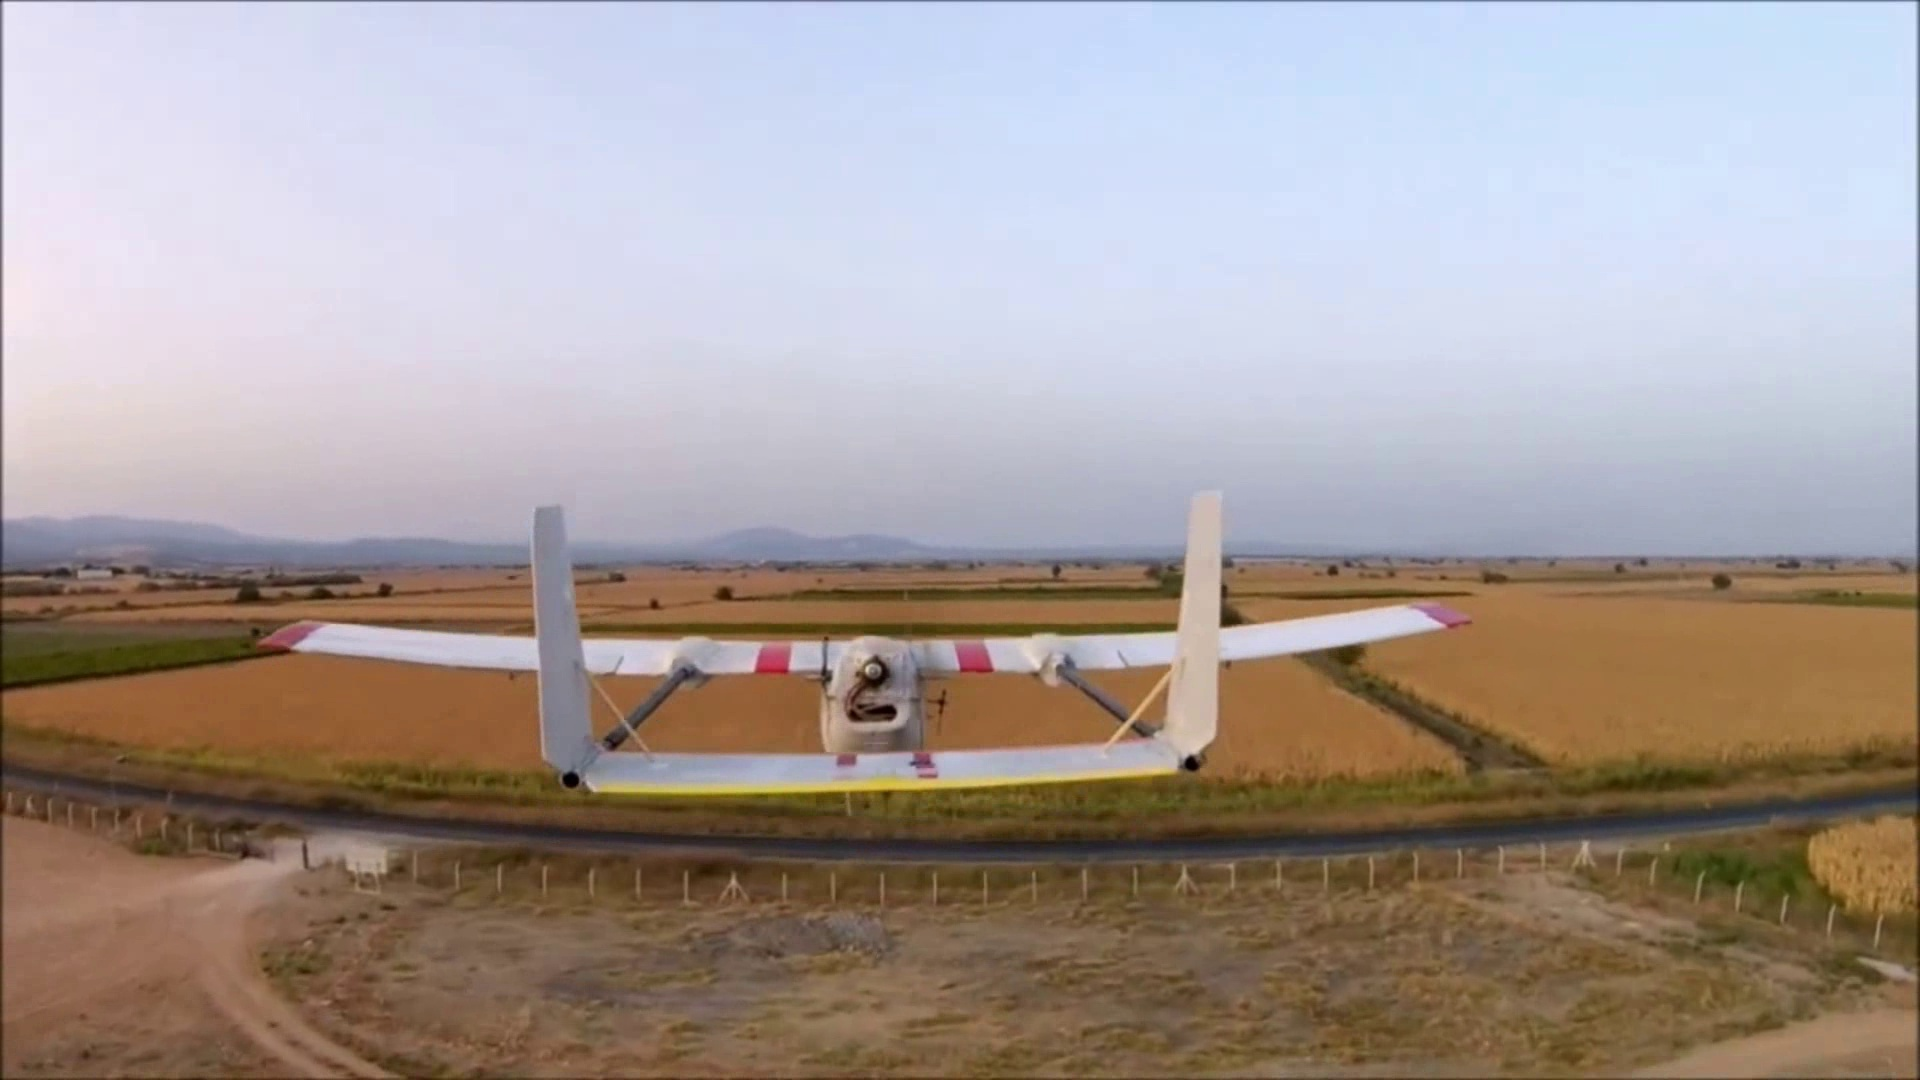airplane: (258, 489, 1476, 790)
